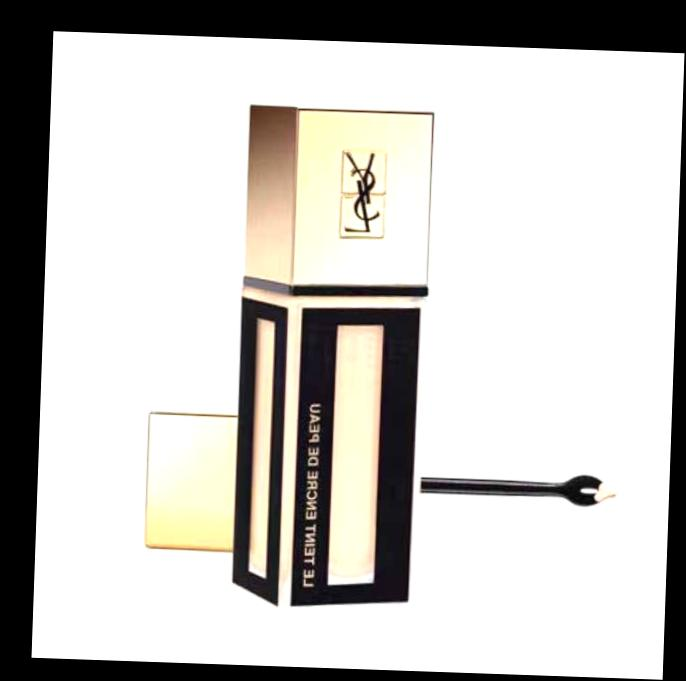cosmetic: (226, 106, 432, 614)
